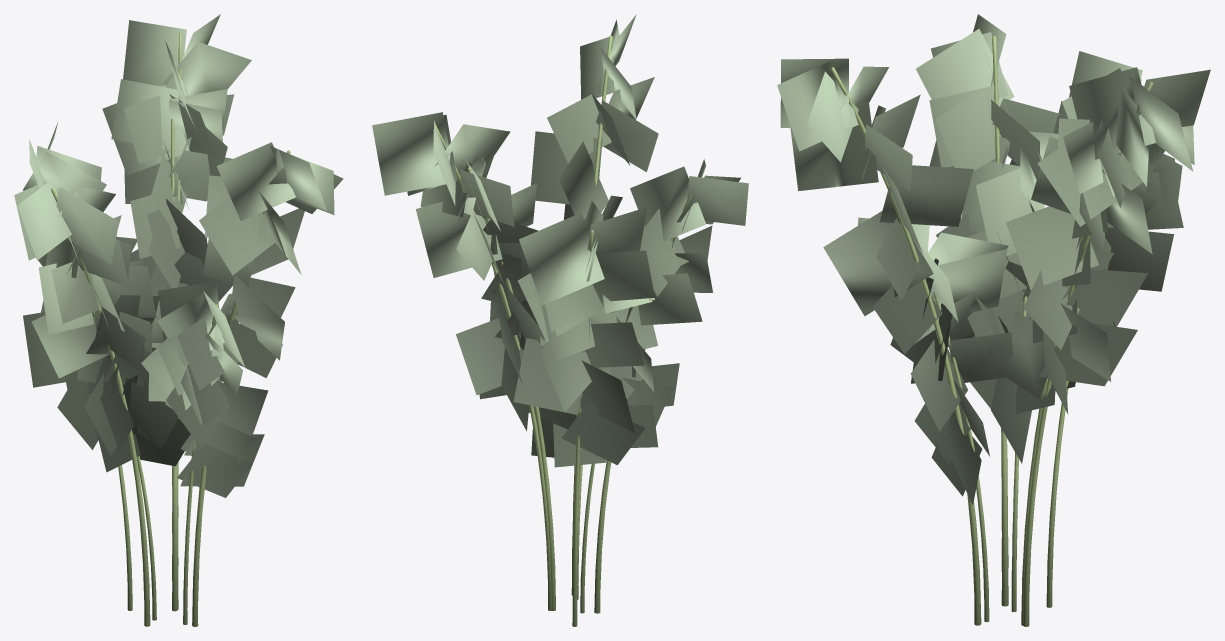
File: bamboo_0.glb
The picture shows the model from 3 angles, left to right: view 1: azimuth 30°, elevation 25°; view 2: azimuth 150°, elevation 25°; view 3: azimuth 270°, elevation 25°; orthographic projection. The views are drawn at different scales.
Visible parts, largest first — view 1: bamboo_3; view 2: bamboo_3; view 3: bamboo_3.
Part boxes in pixels (x1,y1,x2,y2): bamboo_3: (14,14,343,626); bamboo_3: (372,14,748,626); bamboo_3: (777,14,1210,626).
Size of the model in its own units: 6.44 by 10.9 by 7.34.
